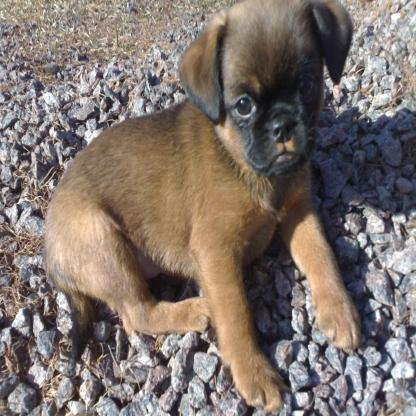Brabancon_griffon: (41, 0, 358, 409)
